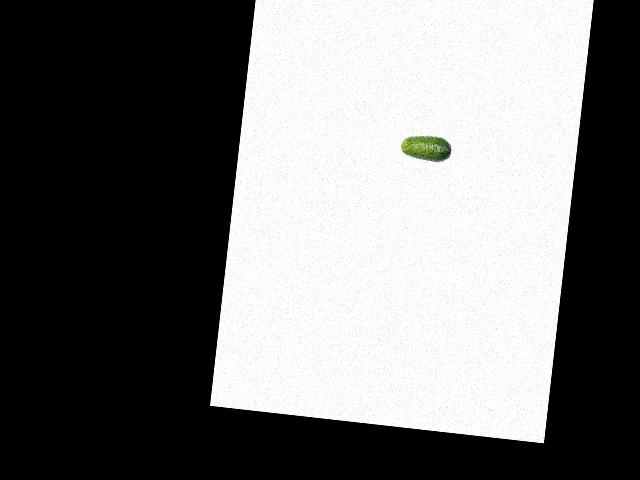cucumber: (399, 132, 453, 163)
